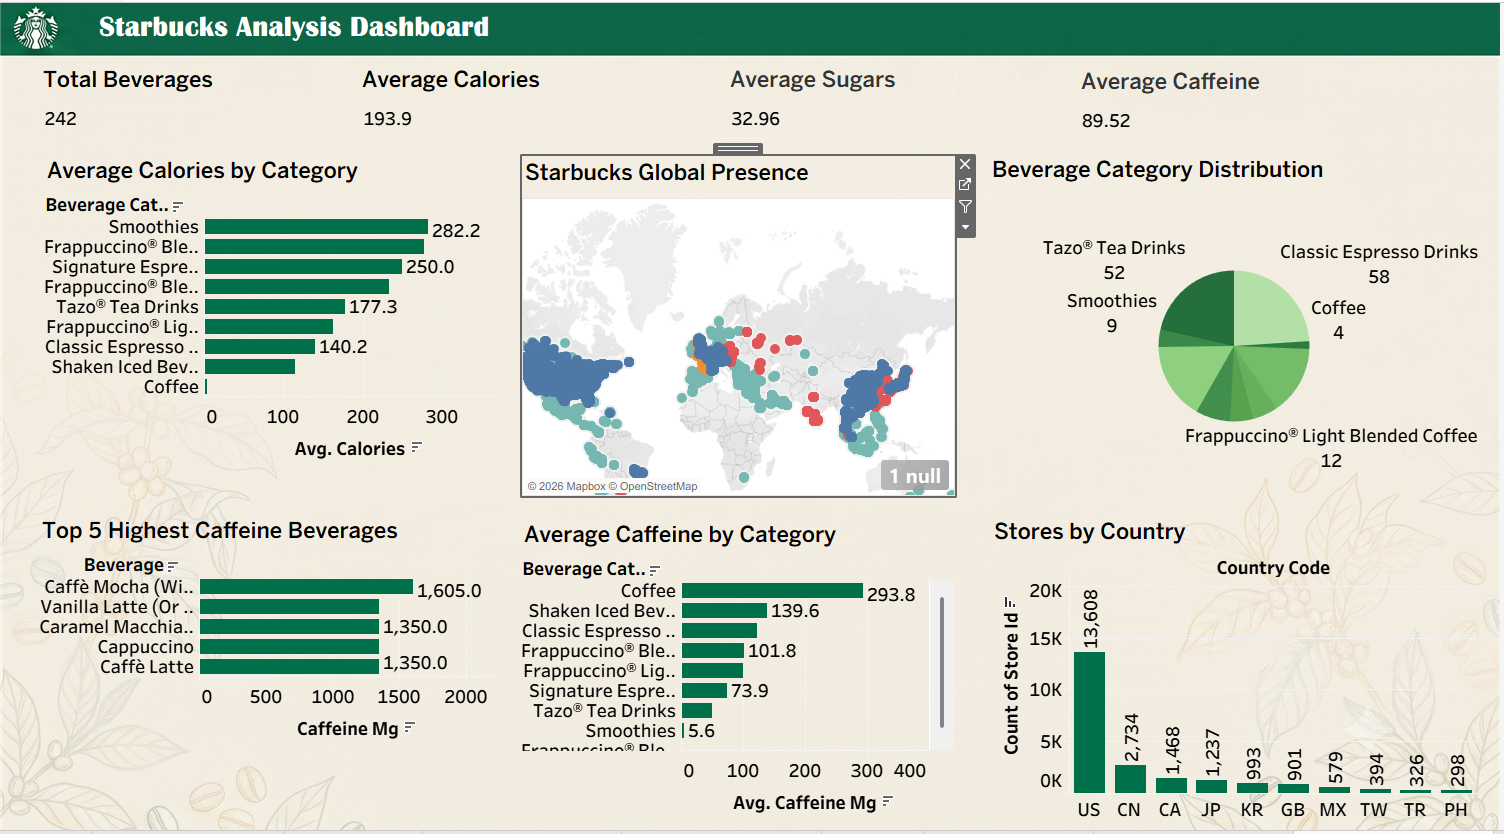

What the dashboard file says about the page in this screenshot:
{"tool":"tableau","page":{"name":"Starbucks Analysis Dashboard","canvas":[1500,872],"ordinal":0},"visuals":[{"type":"image","param":"Image/Gemini_Generated_Image_cp7i96cp7i96cp7i.png","box":[0,0,1500,868]},{"type":"text","box":[95,7,583,43]},{"type":"worksheet","title":"Total Beverages","mark":"Automatic","box":[40,65,251,81]},{"type":"worksheet","title":"Avg Calories","mark":"Automatic","box":[359,65,339,86]},{"type":"worksheet","title":"Avg Sugar","mark":"Automatic","box":[727,65,347,83]},{"type":"worksheet","title":"Avg Caffeine","mark":"Automatic","box":[1078,67,402,74]},{"type":"worksheet","title":"Category Distribution","mark":"Pie","box":[989,155,490,344]},{"type":"worksheet","title":"Calories by Category","mark":"Automatic","rows":["beverage_category"],"cols":["calories"],"box":[44,156,452,346]},{"type":"worksheet","title":"Store Map","mark":"Automatic","rows":["latitude"],"cols":["longitude"],"box":[522,158,433,340]},{"type":"worksheet","title":"Top 5 Caffeine","mark":"Automatic","rows":["beverage"],"cols":["caffeine_mg"],"box":[39,516,458,308]},{"type":"worksheet","title":"Stores by Country","mark":"Automatic","rows":["store_id"],"cols":["country_code"],"box":[991,517,486,307]},{"type":"worksheet","title":"Avg Caffeine by Category","mark":"Automatic","rows":["beverage_category"],"cols":["caffeine_mg"],"box":[521,520,433,303]}]}

Visuals, with their boxes on the page's 1500x872 design canvas (x1, y1, x2, y2). These are canvas units, not pixel positions in the 1504x834 screenshot, which may show the page scaled, cropped or inside an application window:
image: box=[0, 0, 1500, 868]
text: box=[95, 7, 678, 50]
"Total Beverages" worksheet: box=[40, 65, 291, 146]
"Avg Calories" worksheet: box=[359, 65, 698, 151]
"Avg Sugar" worksheet: box=[727, 65, 1074, 148]
"Avg Caffeine" worksheet: box=[1078, 67, 1480, 141]
"Category Distribution" worksheet (Pie marks): box=[989, 155, 1479, 499]
"Calories by Category" worksheet: box=[44, 156, 496, 502]
"Store Map" worksheet: box=[522, 158, 955, 498]
"Top 5 Caffeine" worksheet: box=[39, 516, 497, 824]
"Stores by Country" worksheet: box=[991, 517, 1477, 824]
"Avg Caffeine by Category" worksheet: box=[521, 520, 954, 823]
